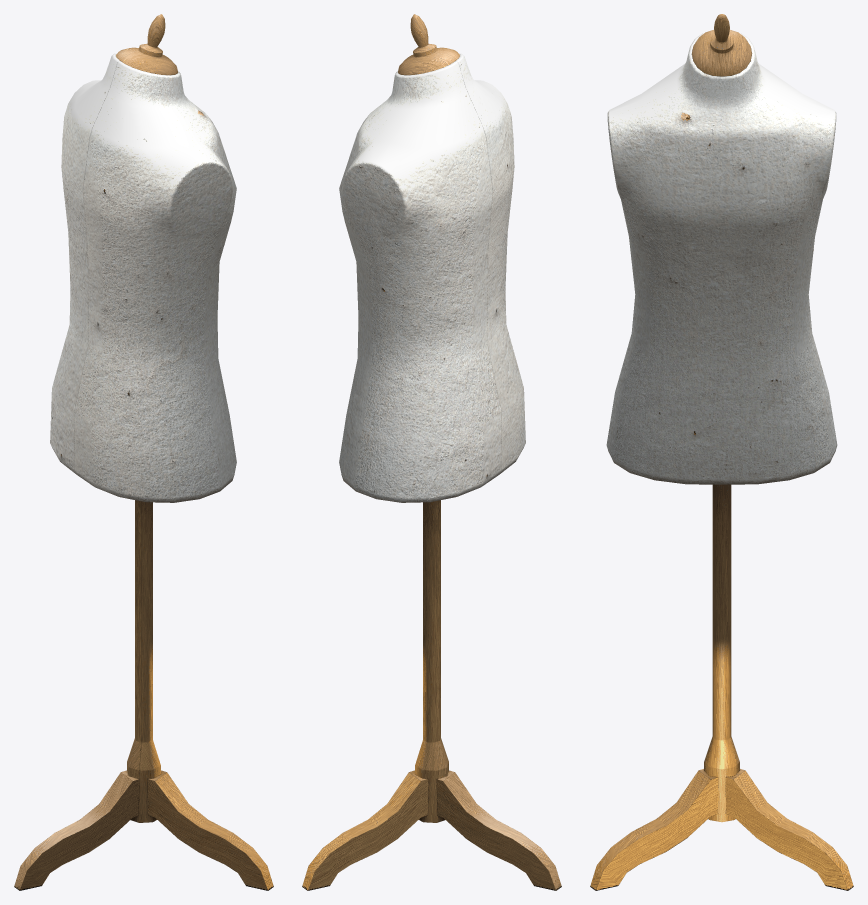
The model's file is Mannequin4 (2.43313 , -0.79, 0.3).glb.
The picture shows the model from 3 angles, left to right: view 1: azimuth 30°, elevation 25°; view 2: azimuth 150°, elevation 25°; view 3: azimuth 270°, elevation 25°; orthographic projection.
Visible parts, largest first — view 1: DressMannequin.007; view 2: DressMannequin.007; view 3: DressMannequin.007.
Boxes of the visible parts, x1,y1,x2,y2 form: DressMannequin.007: (14, 14, 273, 890); DressMannequin.007: (302, 14, 561, 890); DressMannequin.007: (590, 14, 853, 890).
Size of the model in its own units: 0.4571 by 1.86 by 0.5204.
1 material, 1 textured.
